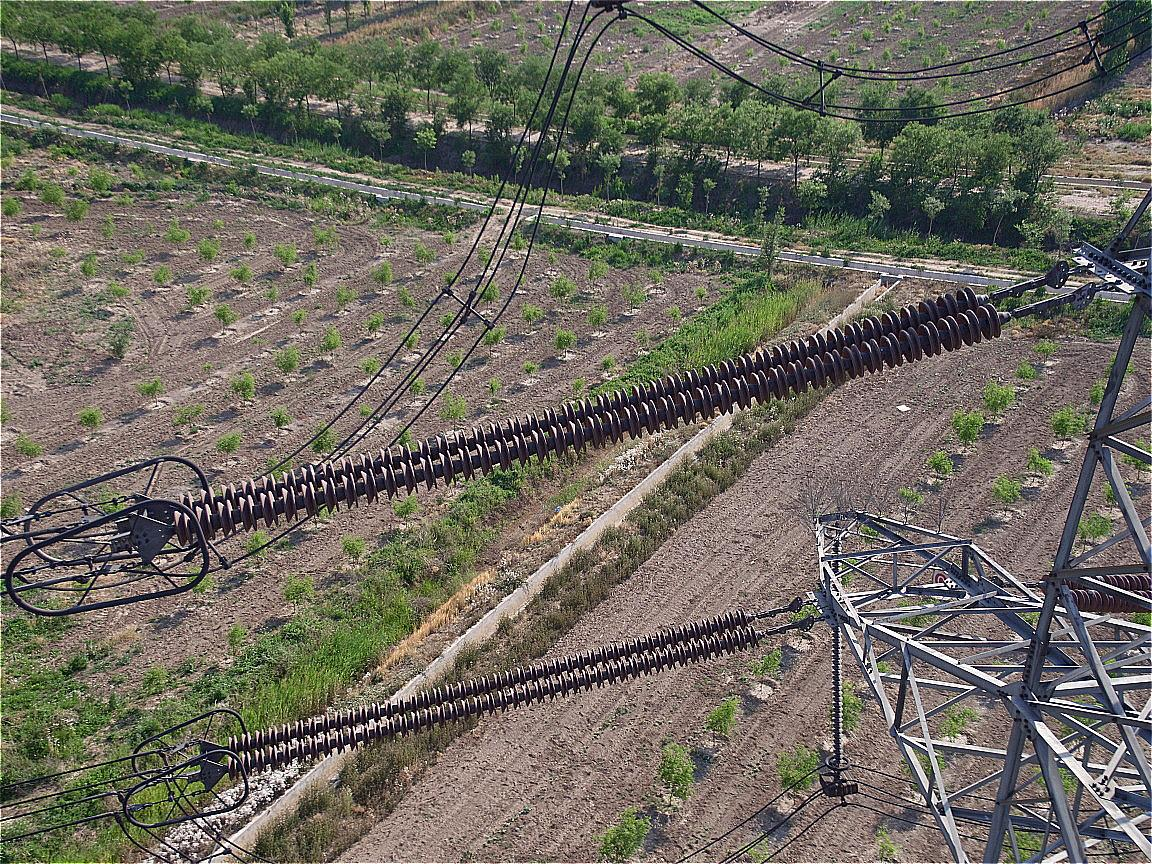insultor2: (173, 286, 1001, 548), (228, 610, 762, 783)
